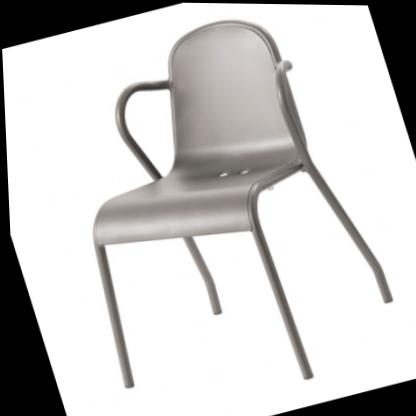Chair: (20, 0, 410, 416)
